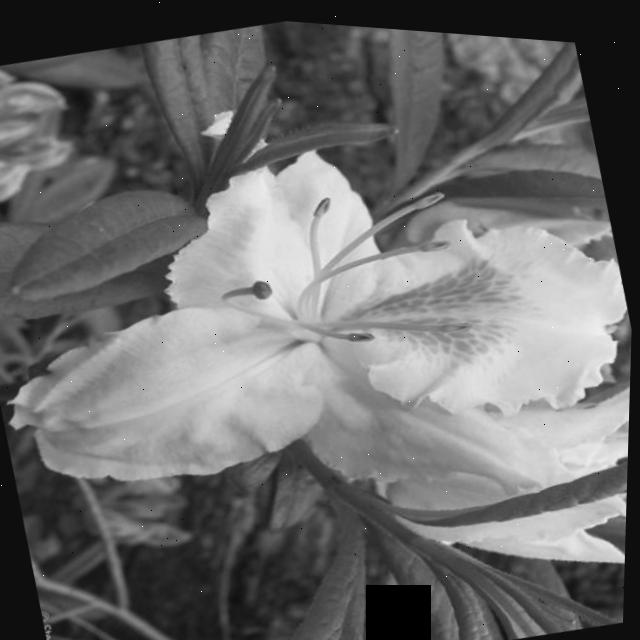azalea: (67, 47, 639, 608)
